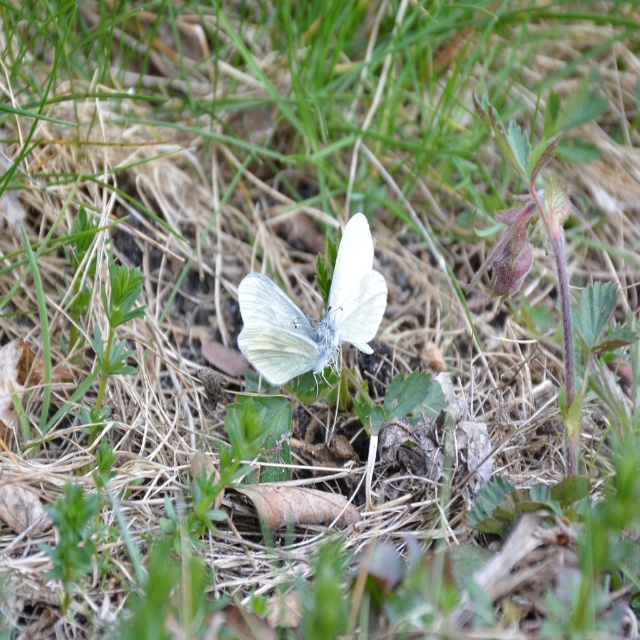Butterfly: (236, 213, 389, 396)
